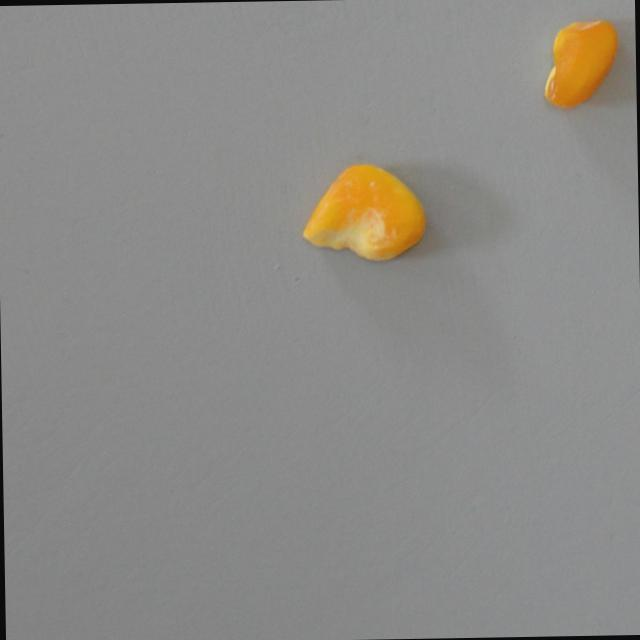no_canjicado: (301, 160, 428, 264), (540, 17, 617, 107)
